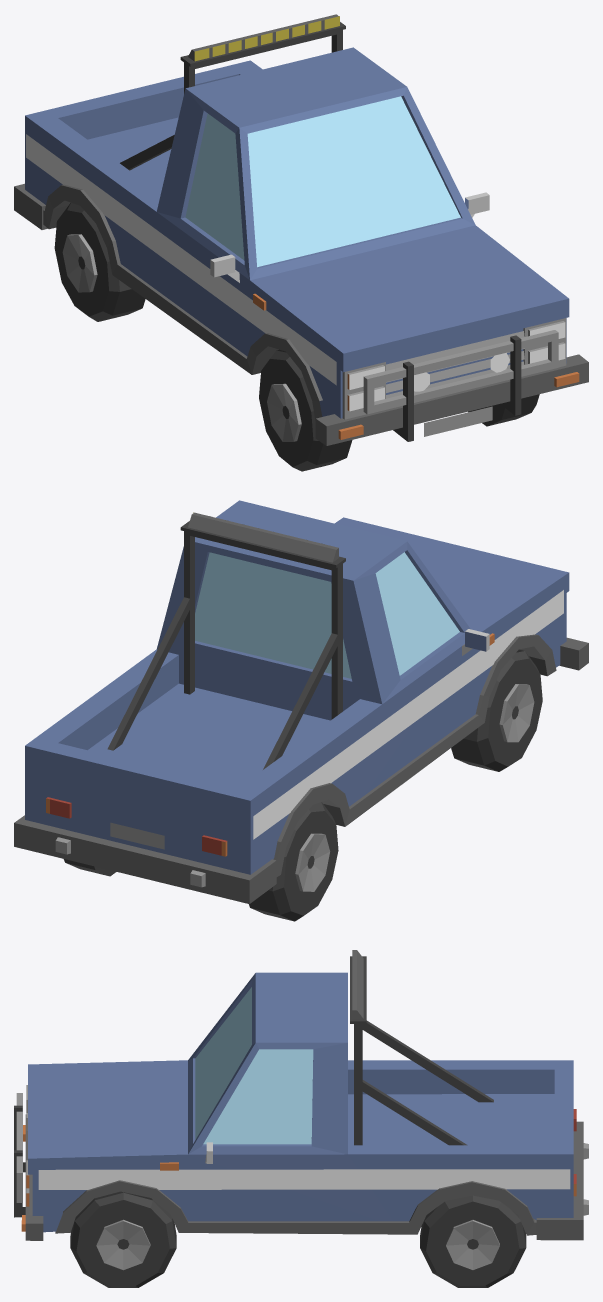
File: transport_jeep_003.fbx
3 renders of one model, top to bottom at view 1: azimuth 30°, elevation 25°; view 2: azimuth 150°, elevation 25°; view 3: azimuth 270°, elevation 25°, orthographic. The views are drawn at different scales.
Parts seen in each view (by area): view 1: transport_jeep_003; view 2: transport_jeep_003; view 3: transport_jeep_003.
Boxes of the visible parts, left/top/right/bottom form: transport_jeep_003: left=14, top=14, right=588, bottom=471; transport_jeep_003: left=14, top=500, right=588, bottom=921; transport_jeep_003: left=14, top=950, right=588, bottom=1287.
Size of the model in its own units: 179 by 190 by 377.
